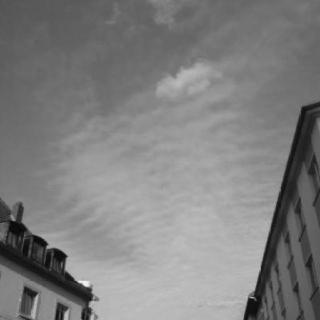Cirrocumulus: (37, 0, 273, 314)
